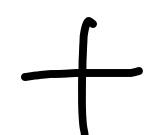div: (23, 17, 142, 135)
